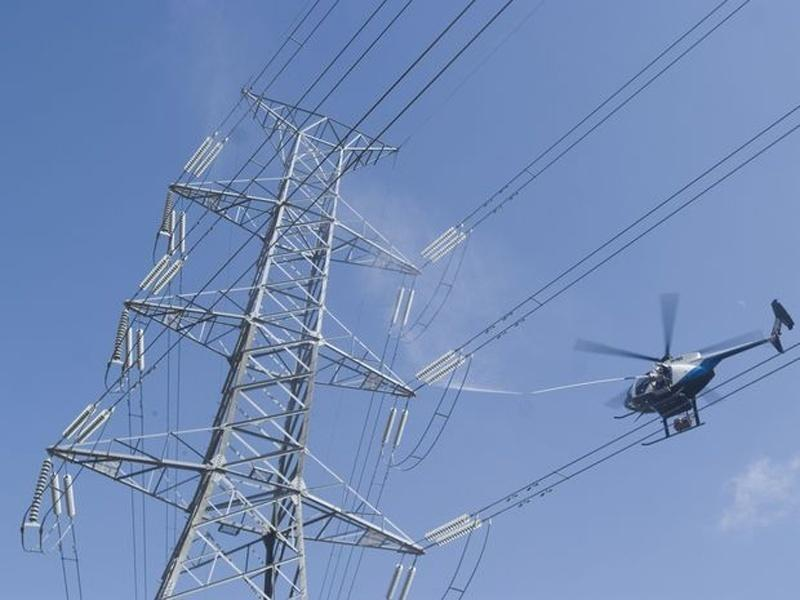power_tower: (92, 106, 388, 590)
